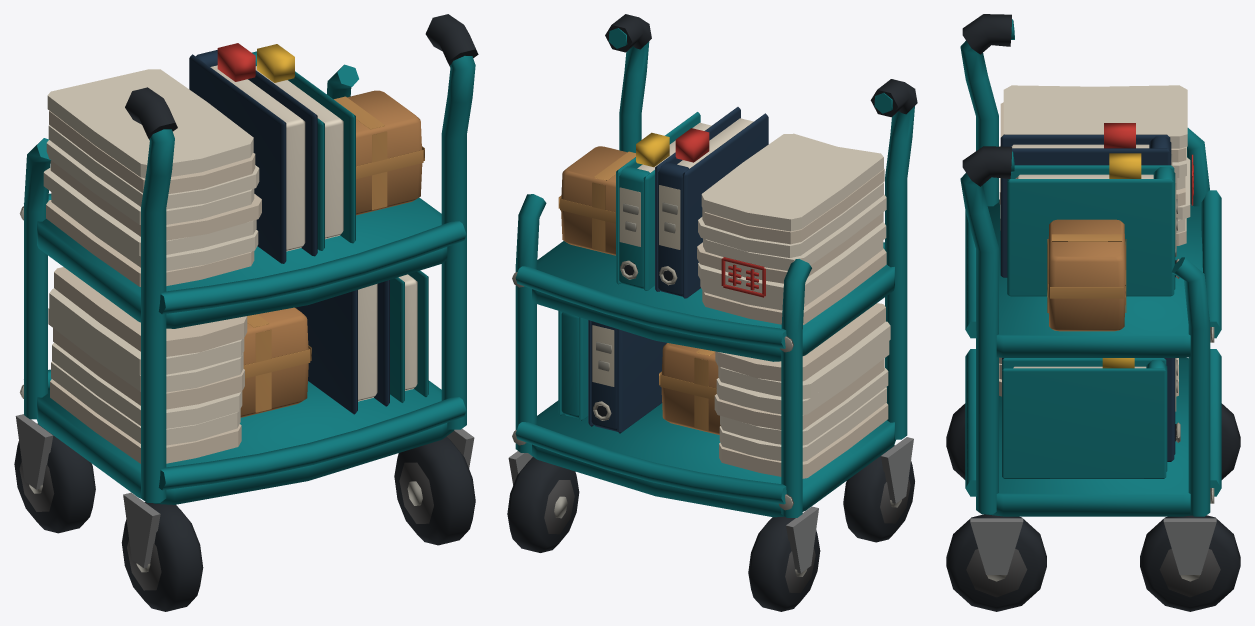
Rendered from paper_cart.glb.
The picture shows the model from 3 angles, left to right: view 1: azimuth 30°, elevation 25°; view 2: azimuth 150°, elevation 25°; view 3: azimuth 270°, elevation 25°; orthographic projection. The views are drawn at different scales.
Parts seen in each view (by area): view 1: PaperCart_Geometry; view 2: PaperCart_Geometry; view 3: PaperCart_Geometry.
Part boxes in pixels (<box>): PaperCart_Geometry: <box>14,14,478,611</box>; PaperCart_Geometry: <box>507,14,917,611</box>; PaperCart_Geometry: <box>946,14,1240,611</box>.
Size of the model in its own units: 1.3 by 1.93 by 1.11.
